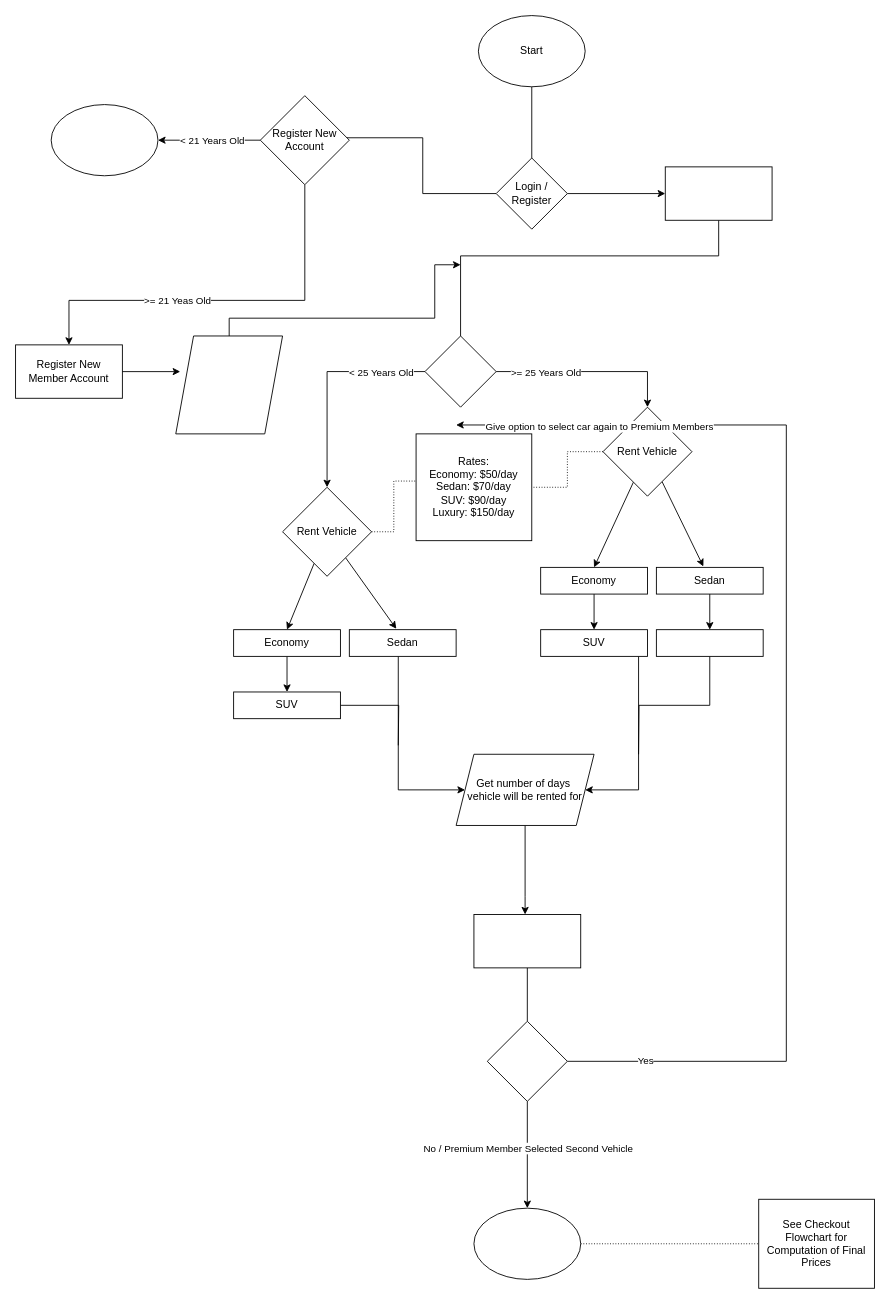
Image size: 890x1304. Some labels were removed from this diagram. The shapes that lost their labels are listed below. From the top down, each one's centre as x and y in pixels, then its label:
At [104,140]: "Cannot Register Account".
At [718,193]: "Login to Member Account".
At [229,384]: "Enter: Name Age Drivers License Number Membership Type".
At [460,371]: "Age of Renter".
At [709,642]: "Luxury".
At [527,941]: "Apply Vehicle Rate to Account X number of days rented for".
At [526,1060]: "Is premium member".
At [527,1243]: "Checkout".
